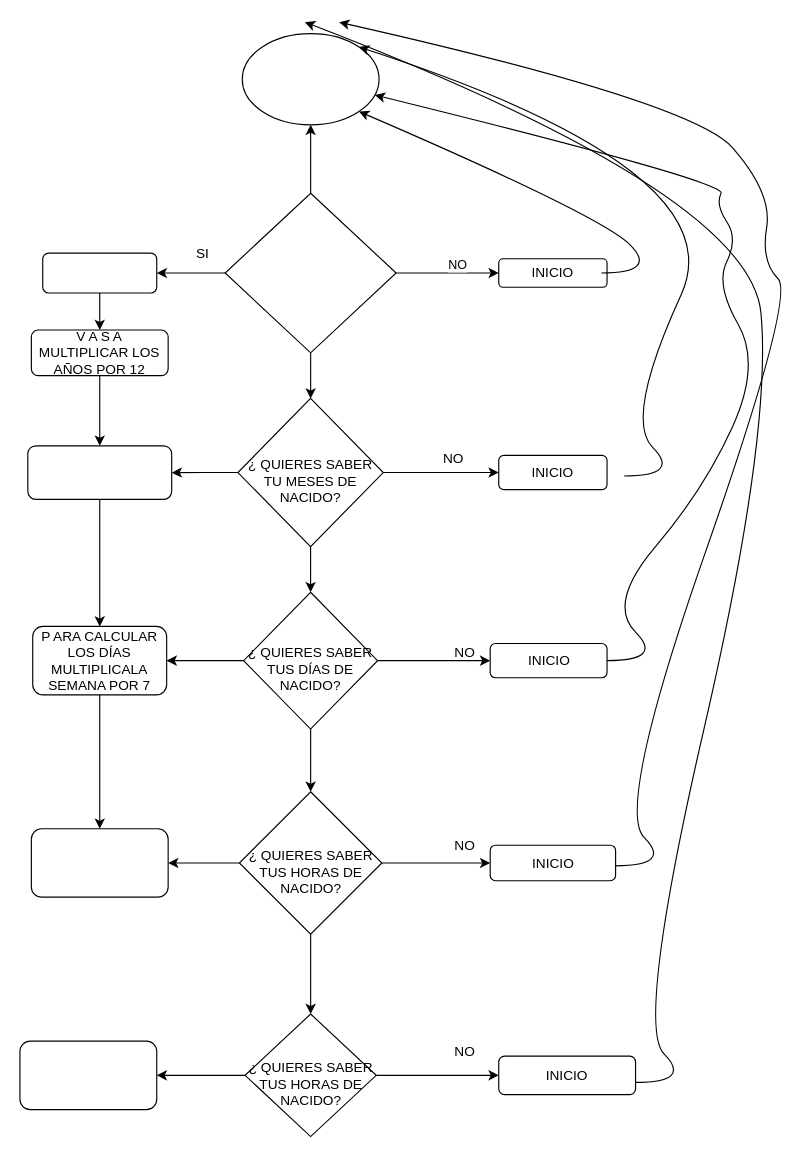
The diagram is 801 pixels wide and 1157 high, and some of its shapes have lost their labels. The shapes that lost their labels are listed below. From the top down, each one's box as (x1, y1, x2, y2) in pixels, then its label:
(241, 32, 379, 125): EDAD
(42, 252, 157, 293): SI TIENES 16 AÑOS
(224, 192, 396, 353): ¿ QUIERES SABER TU AÑOS, MESES, DÍAS, HORAS, MINUTOS, SEGUNDOS DE NACIMIENTO?
(27, 445, 172, 499): TENDRÁS QUIE MULTIPLICAR LOS MESES POR 4.34524
(30, 828, 168, 897): P ARA SABER LAS HORAS MULTIPLICAMOS LOS DÍAS POR 24
(19, 1040, 157, 1110): T IENES QUE MULTIPLICAR 24 YA QUE EQUIVALE ALAS HORAS DEL DÍA
